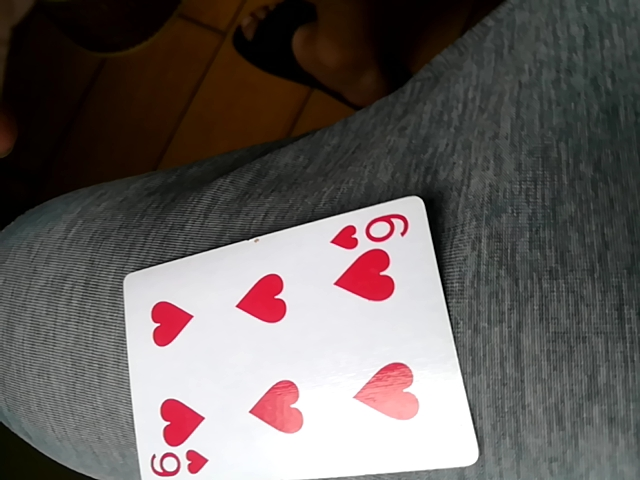hx 6: (119, 190, 476, 478)
